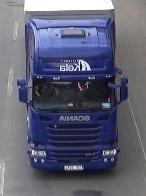truck: (14, 1, 131, 174)
